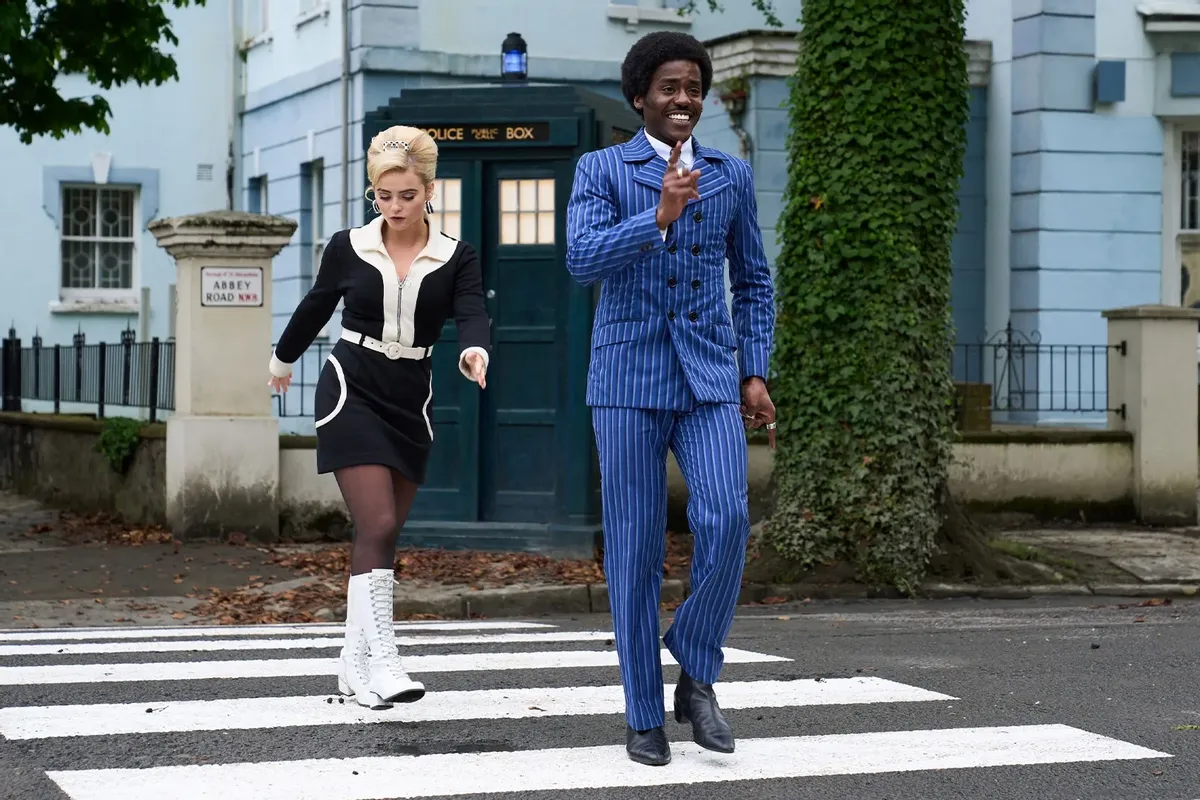person: (561, 26, 785, 769), (262, 121, 495, 710)
